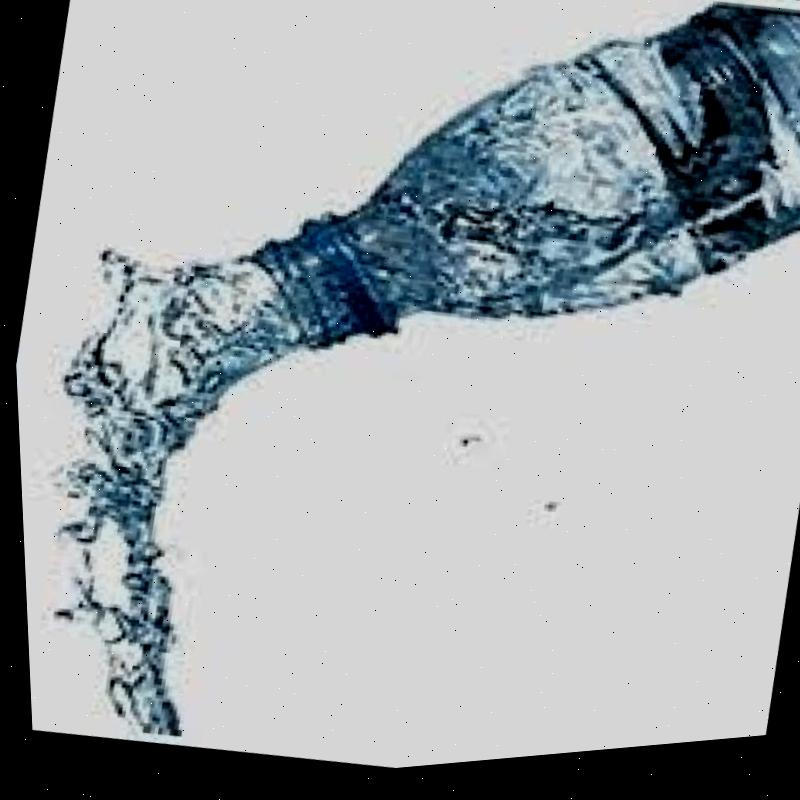botella: (229, 0, 800, 454)
